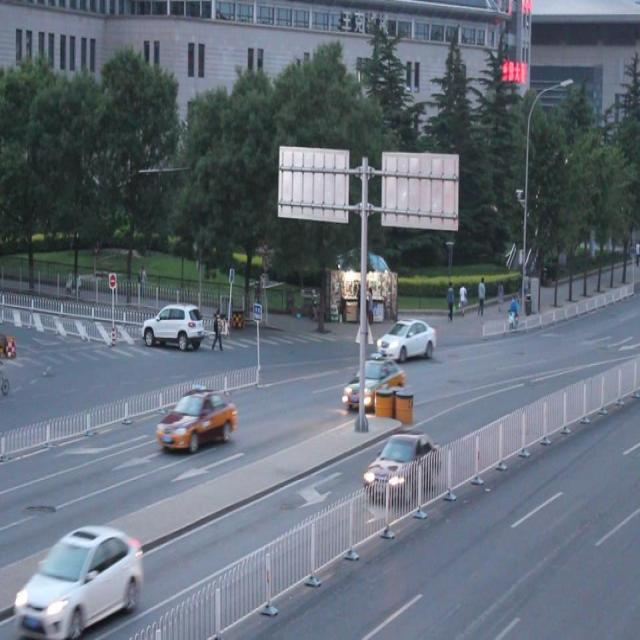car: (21, 526, 144, 632), (364, 432, 441, 502), (159, 389, 237, 455), (343, 356, 406, 416), (377, 314, 437, 364), (140, 303, 202, 350)
